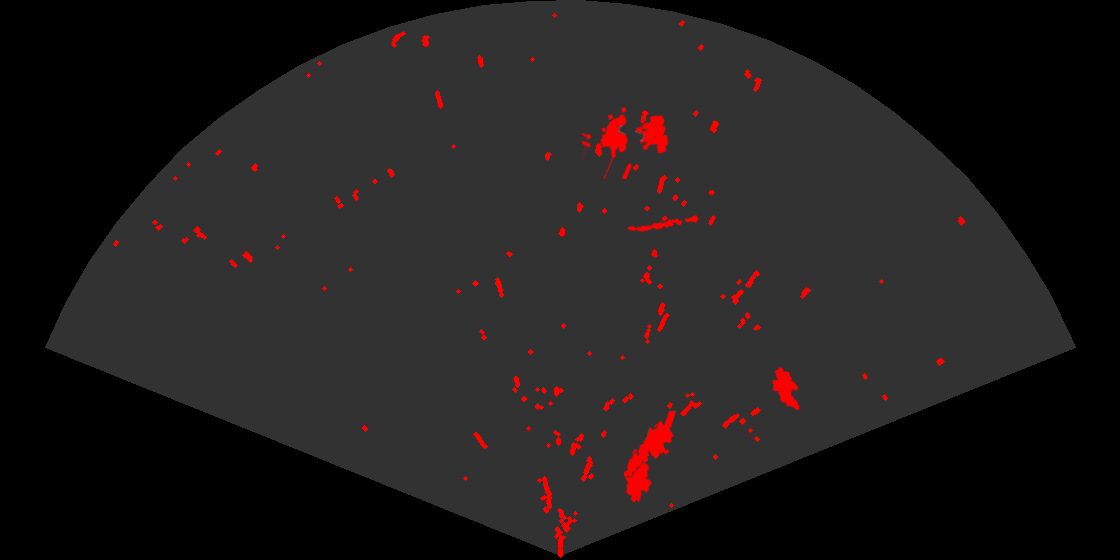AUV: (623, 447, 653, 504), (771, 366, 801, 412)
cage: (582, 105, 670, 179)
chain: (625, 213, 701, 234)
frogman: (622, 411, 678, 479)
